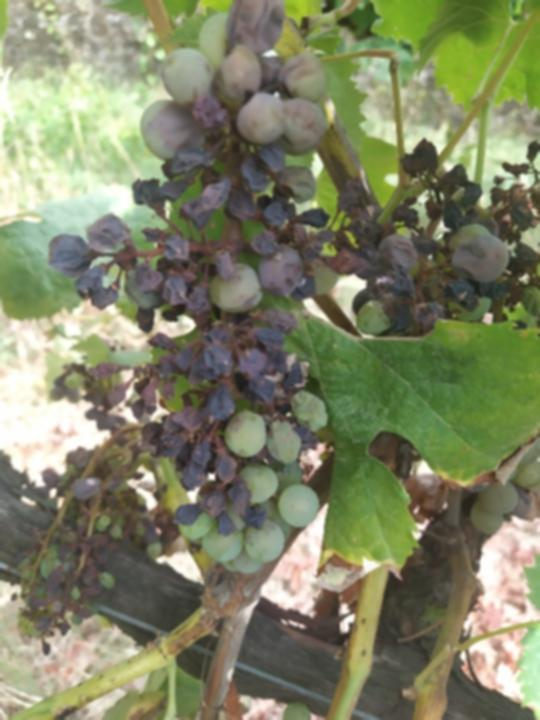grape: (44, 0, 345, 577), (323, 134, 540, 341)
